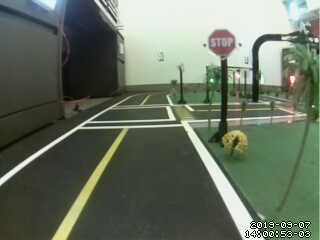Stop_Sign: (206, 25, 239, 63)
